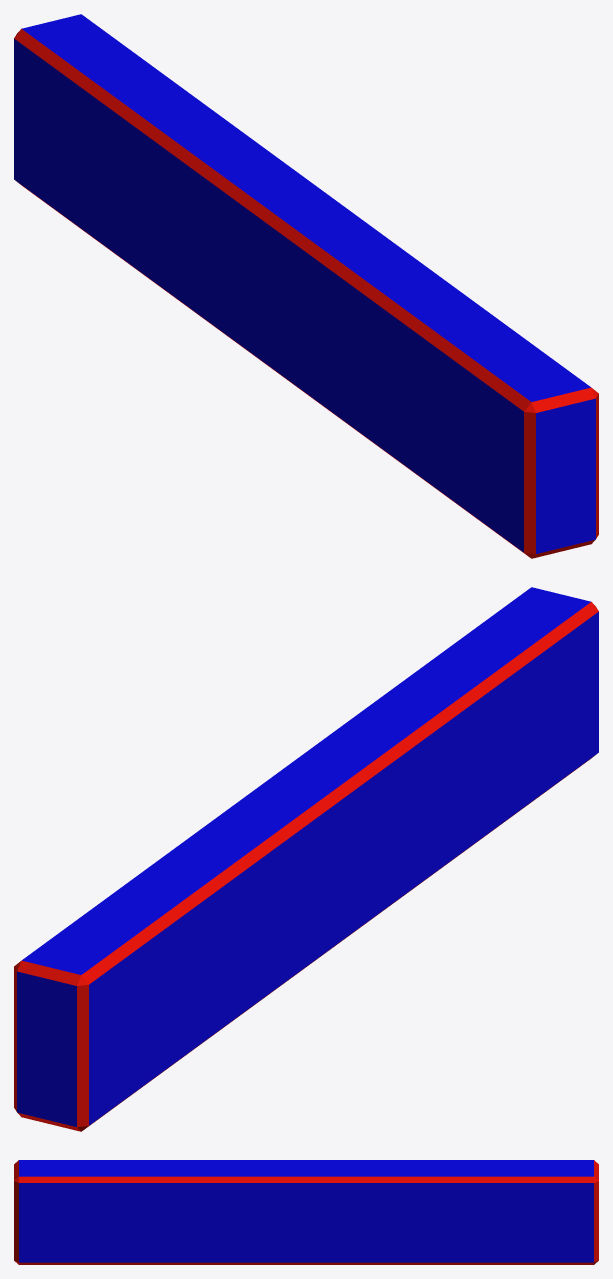
Rendered from HUB_Tiny_Platform.fbx.
3 renders of one model, top to bottom at view 1: azimuth 30°, elevation 25°; view 2: azimuth 150°, elevation 25°; view 3: azimuth 270°, elevation 25°, orthographic. The views are drawn at different scales.
Parts seen in each view (by area): view 1: HUB_Tiny_Platform; view 2: HUB_Tiny_Platform; view 3: HUB_Tiny_Platform.
Boxes of the visible parts, bbox=[...] form: HUB_Tiny_Platform: bbox=[14, 14, 598, 558]; HUB_Tiny_Platform: bbox=[14, 587, 598, 1131]; HUB_Tiny_Platform: bbox=[14, 1160, 598, 1264].
Bounding box in the file's own units: 50 × 100 × 600.
